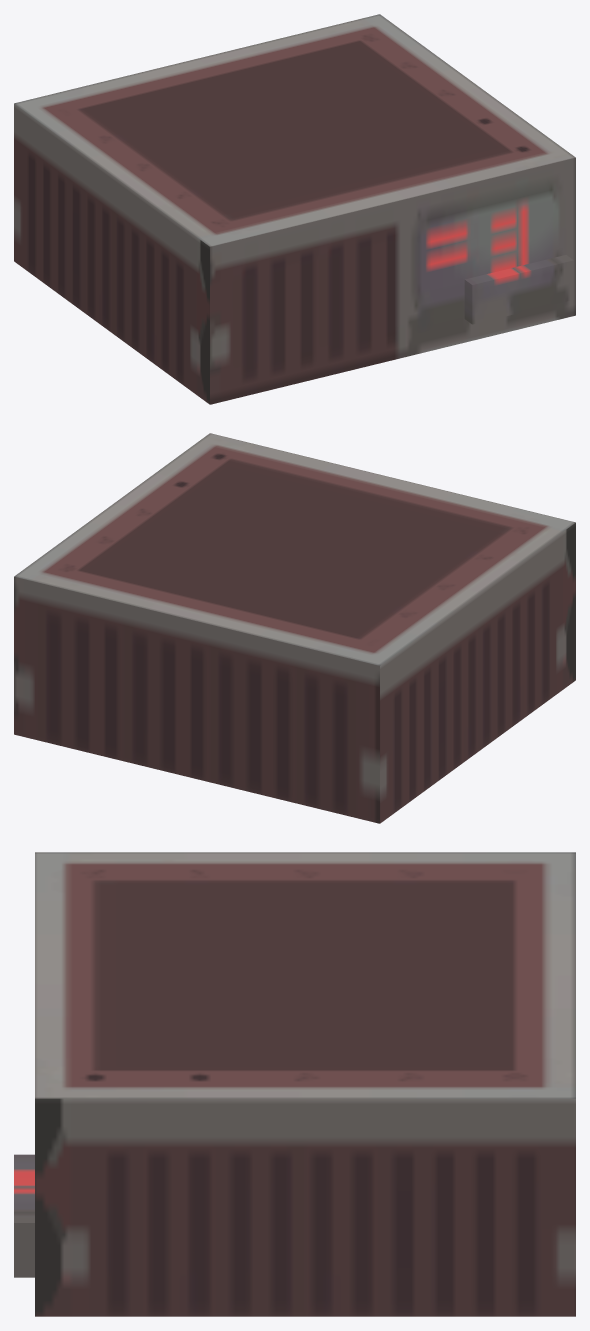
File: Building_AncientSecurityCrate.glb
3 views of the same model, one above another, from view 1: azimuth 30°, elevation 25°; view 2: azimuth 150°, elevation 25°; view 3: azimuth 270°, elevation 25° (orthographic). The views are drawn at different scales.
Visible parts, largest first — view 1: AncientSecurityCrate; view 2: AncientSecurityCrate; view 3: AncientSecurityCrate.
Part boxes in pixels (x1,y1,x2,y2): AncientSecurityCrate: (14, 14, 575, 404); AncientSecurityCrate: (14, 433, 575, 823); AncientSecurityCrate: (14, 852, 575, 1316).
Bounding box in the file's own units: 1.94 × 0.8 × 1.87.
Materials: 1 (1 with a texture image).
